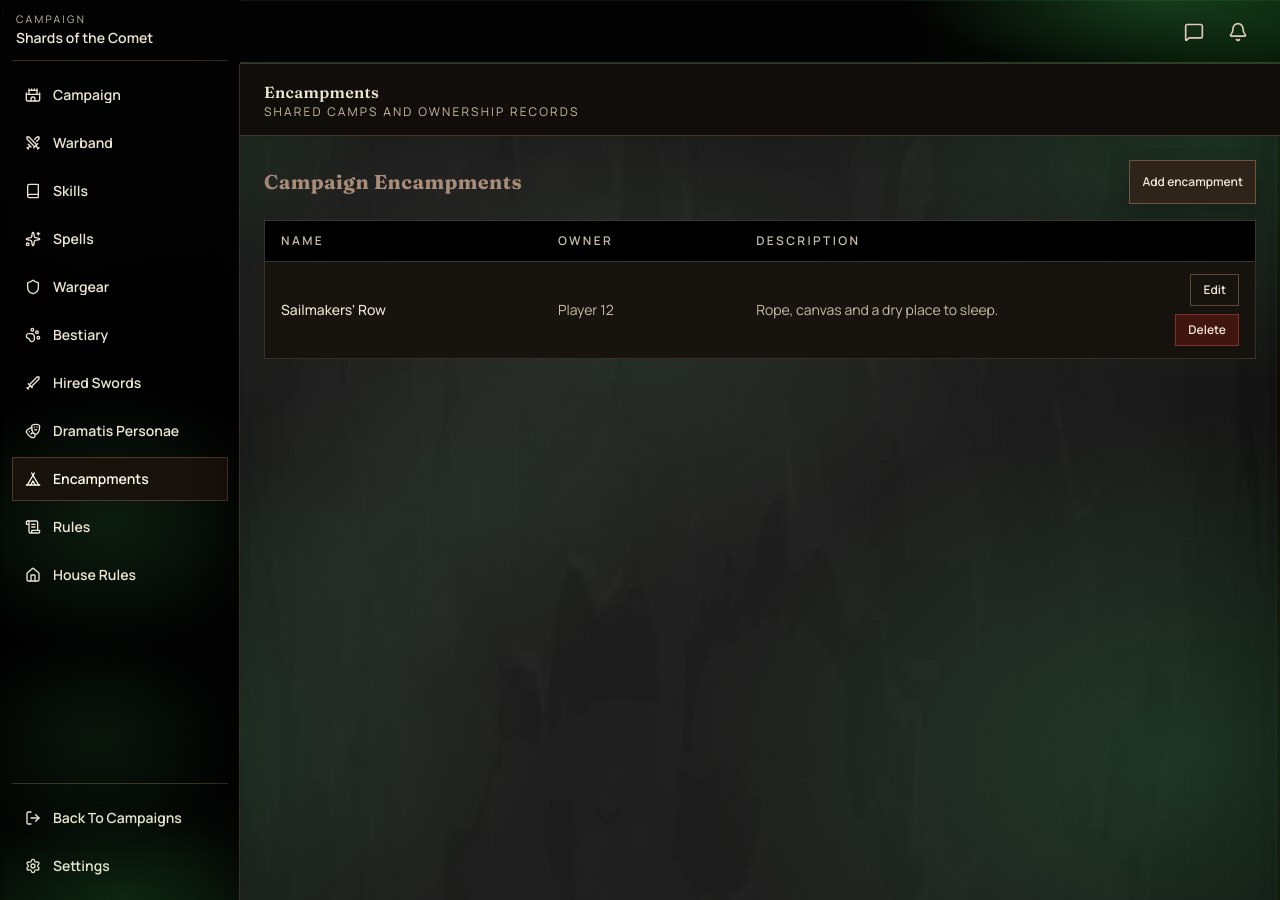
Test: Encampments: adding and editing, as the owner › shows a nameless owner by the server's display name, in the list and the owner picker, never an email (SEC-13)
Expected: the heading "Campaign Encampments" is shown, [264, 168, 522, 196]
Expected: the row "Sailmakers' Row" is shown, [264, 262, 1256, 358]
Click the button "Edit" at coordinates (1215, 290), box [1190, 274, 1239, 306]
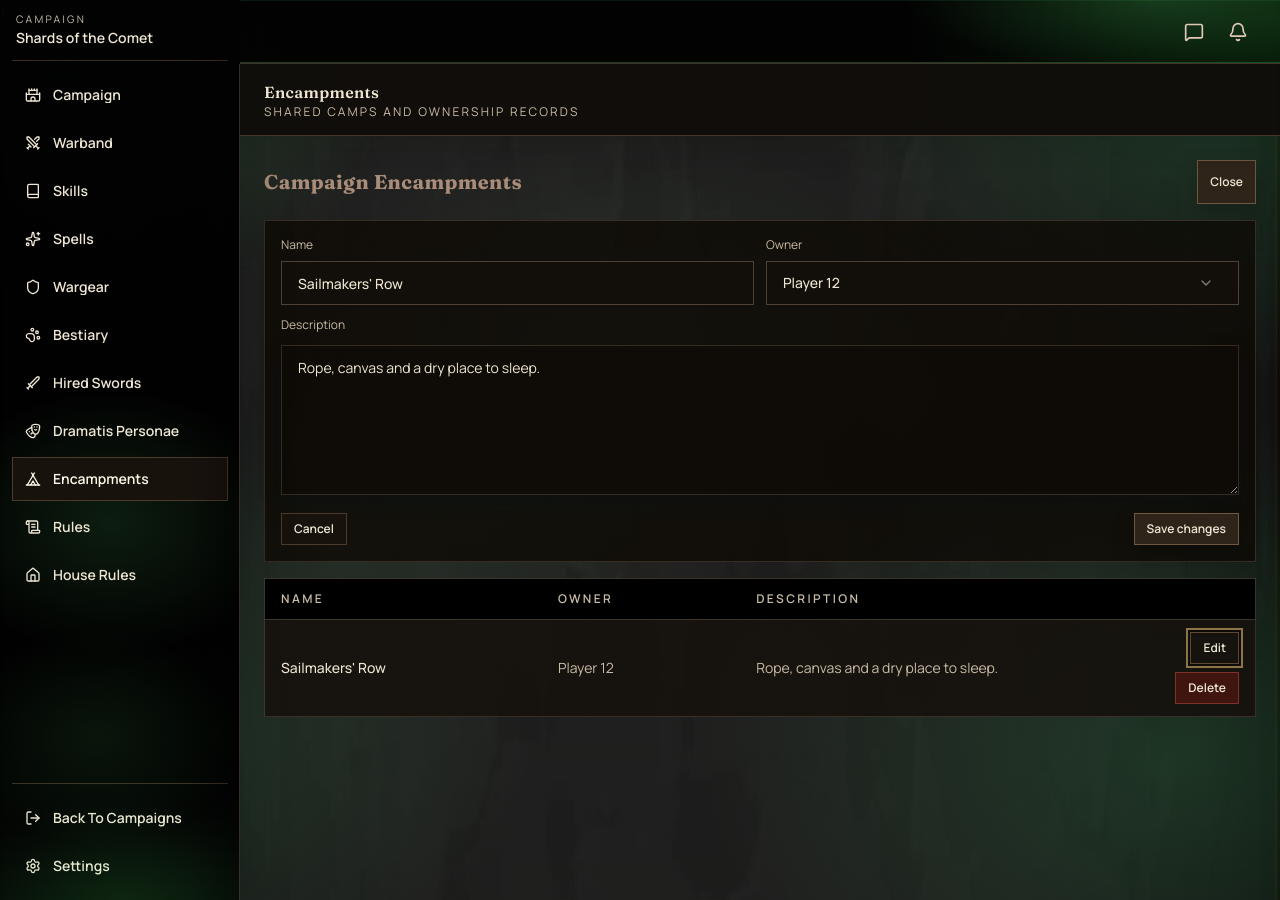
Now the dropdown reads "Player 12", box [766, 261, 1239, 305]
